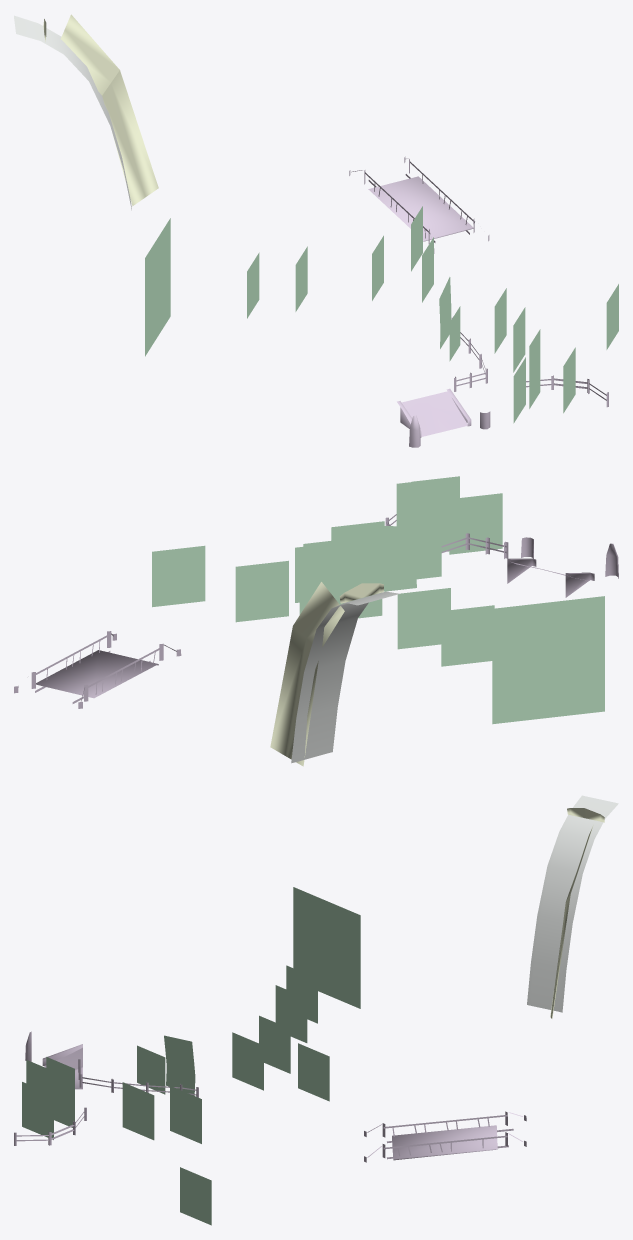
3 views of the same model, one above another, from view 1: azimuth 30°, elevation 25°; view 2: azimuth 150°, elevation 25°; view 3: azimuth 270°, elevation 25° (orthographic). The views are drawn at different scales.
Visible parts, largest first — view 1: 2-2_skeleton; view 2: 2-2_skeleton; view 3: 2-2_skeleton.
Boxes of the visible parts, bbox=[...] form: 2-2_skeleton: bbox=[14, 14, 618, 447]; 2-2_skeleton: bbox=[14, 476, 618, 766]; 2-2_skeleton: bbox=[14, 795, 618, 1225].
Size of the model in its own units: 3561 by 2021 by 4558.
